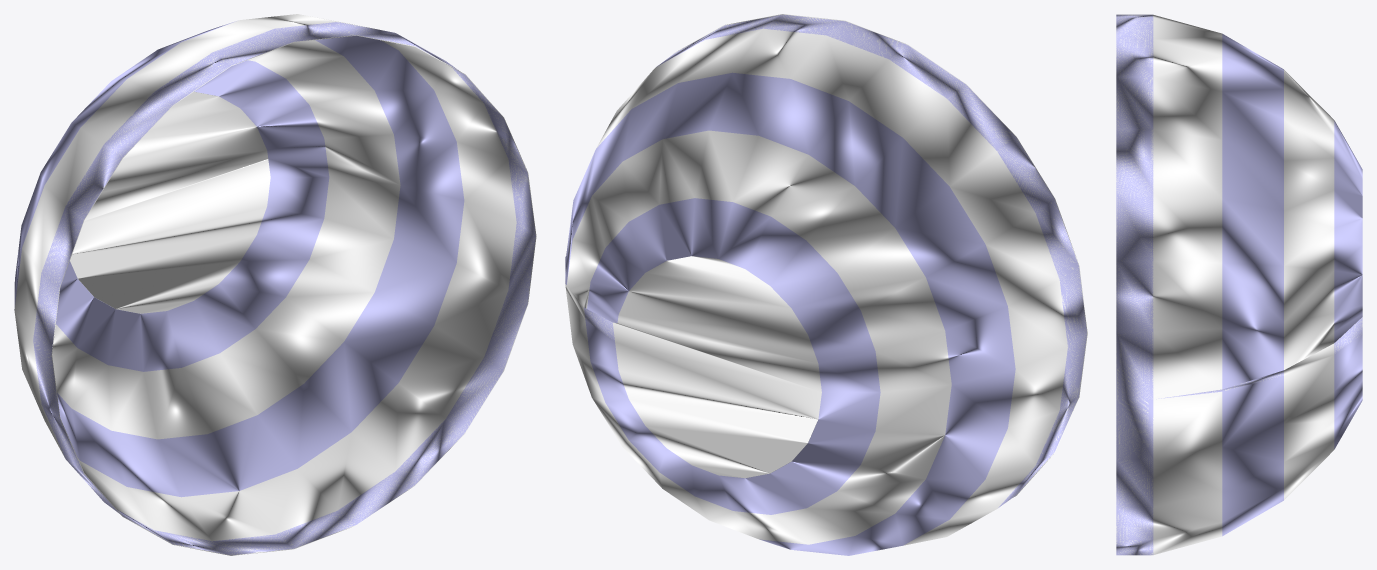
The model's file is model_align.obj.
3 views of the same model, side by side, from view 1: azimuth 30°, elevation 25°; view 2: azimuth 150°, elevation 25°; view 3: azimuth 270°, elevation 25° (orthographic). The views are drawn at different scales.
Bounding box in the file's own units: 0.1581 × 0.1581 × 0.0716.
